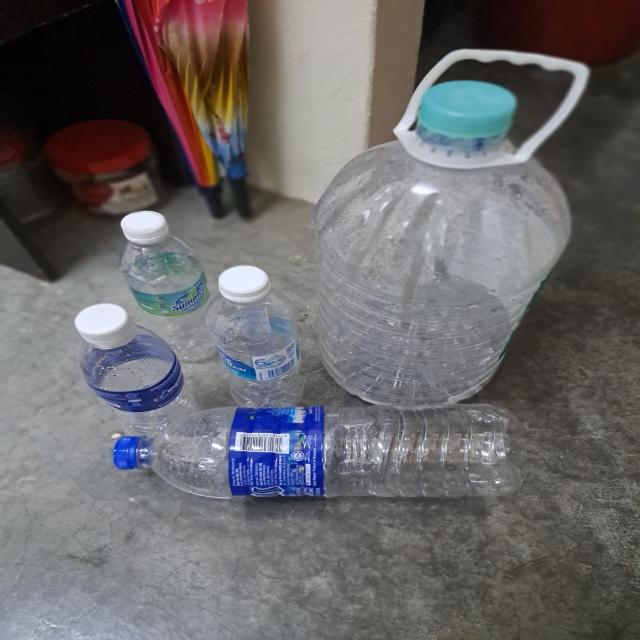plastic bottle: (312, 132, 572, 408), (143, 406, 523, 500), (77, 327, 201, 437), (122, 237, 216, 361), (208, 290, 306, 406)
plastic bottle cap: (417, 80, 516, 138), (74, 302, 134, 346), (217, 265, 269, 299), (121, 211, 169, 241), (113, 436, 142, 470)
